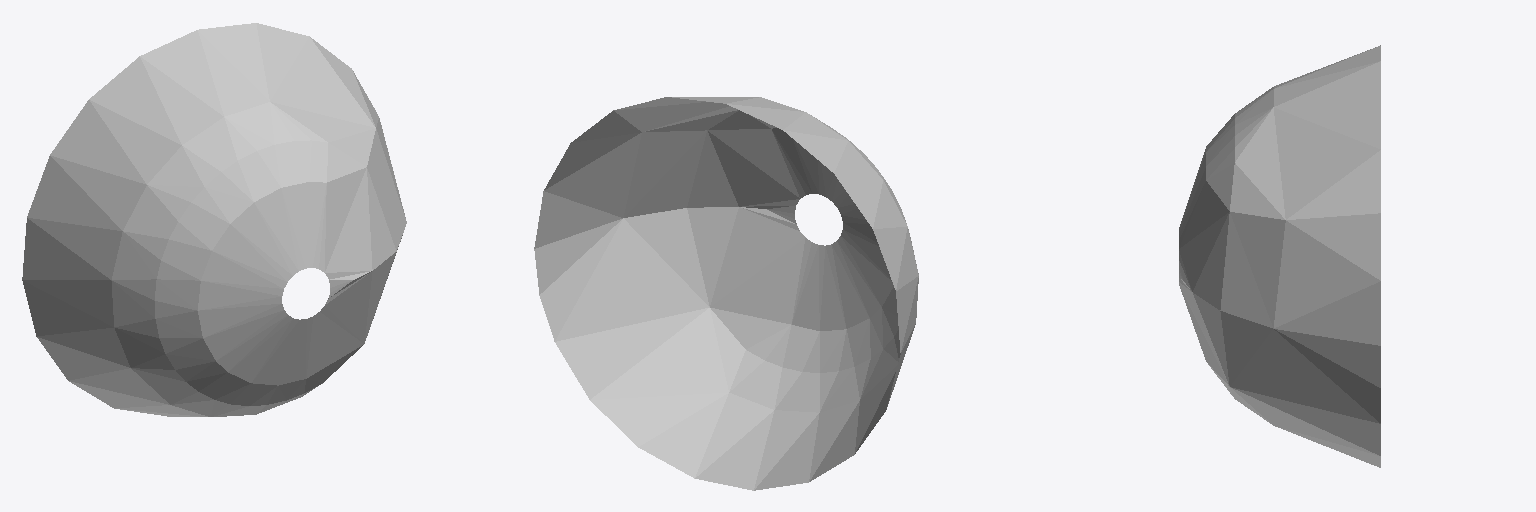
File: parachute3.obj
The picture shows the model from 3 angles: view 1: azimuth 30°, elevation 25°; view 2: azimuth 150°, elevation 25°; view 3: azimuth 270°, elevation 25°; orthographic projection.
Visible parts, largest first — view 1: Surface; view 2: Surface; view 3: Surface.
Part boxes in pixels (left/top/right/bottom): Surface: left=22, top=23, right=406, bottom=416; Surface: left=534, top=97, right=918, bottom=490; Surface: left=1179, top=45, right=1380, bottom=467.
Size of the model in its own units: 115 by 115 by 55.